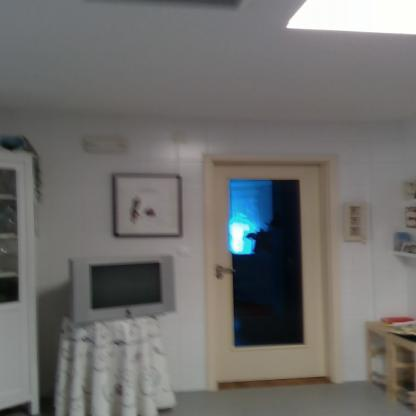door: (213, 160, 327, 379)
lever: (218, 266, 240, 276)
